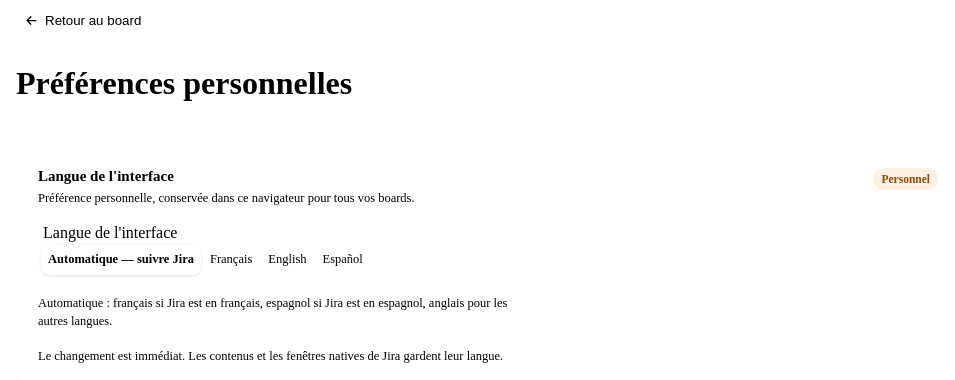
Test case: permet de choisir une langue personnelle sans droit Jira puis de suivre de nouveau Jira
Click the radio button labelled "English" at [287, 259], box top-left (268, 252), bottom-right (306, 266)
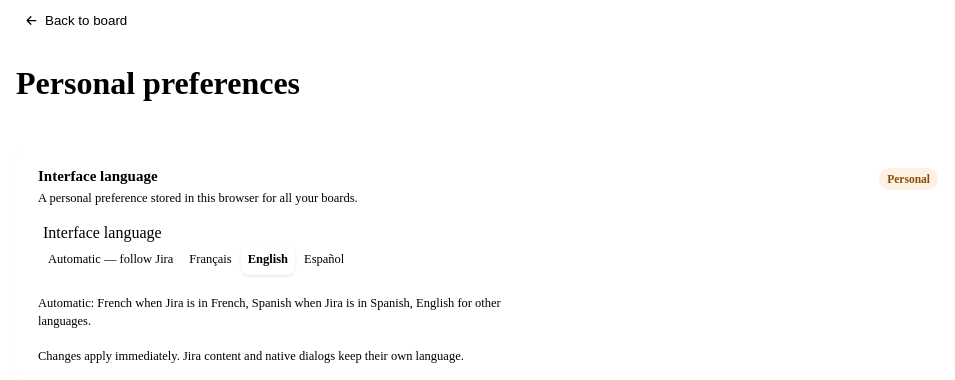
Expected: the text "Interface language" is shown, top-left (38, 168), bottom-right (158, 184)
Click the radio button labelled "Automatic — follow Jira" at [111, 259], box top-left (48, 252), bottom-right (173, 266)
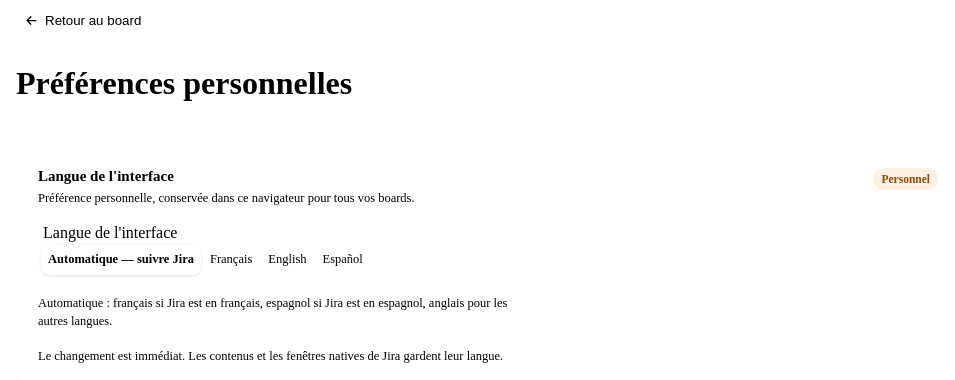
Expected: the text "Langue de l'interface" is shown, top-left (38, 168), bottom-right (174, 184)
